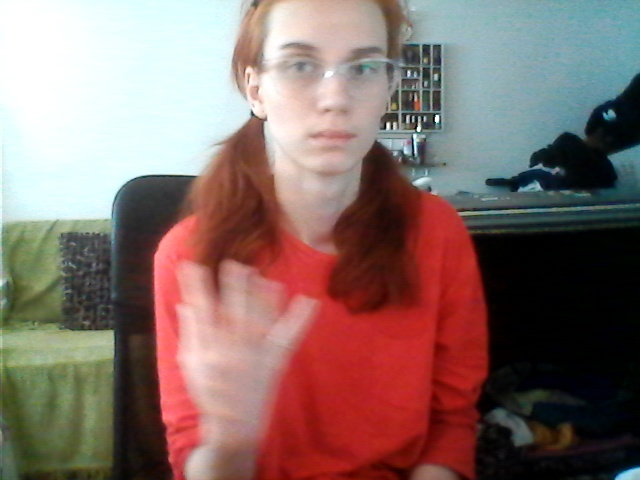kedy: (165, 258, 328, 412)
